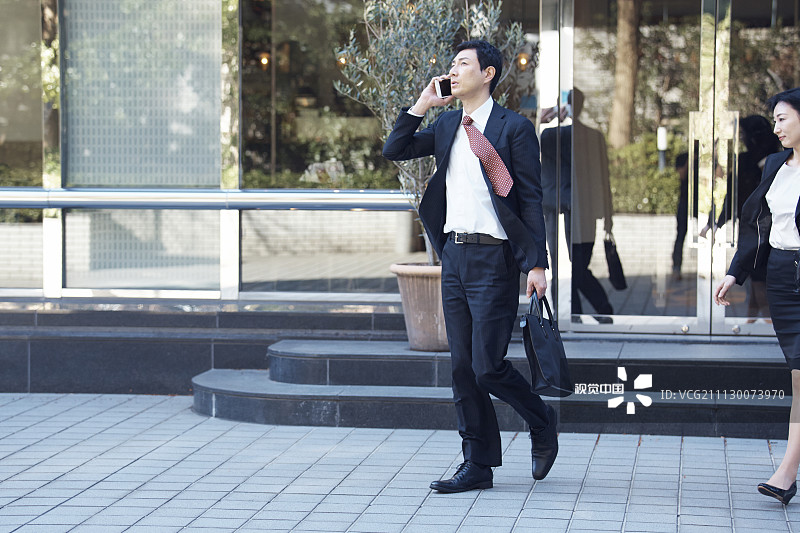calling: (412, 67, 460, 124)
no-phone: (514, 259, 567, 313)
